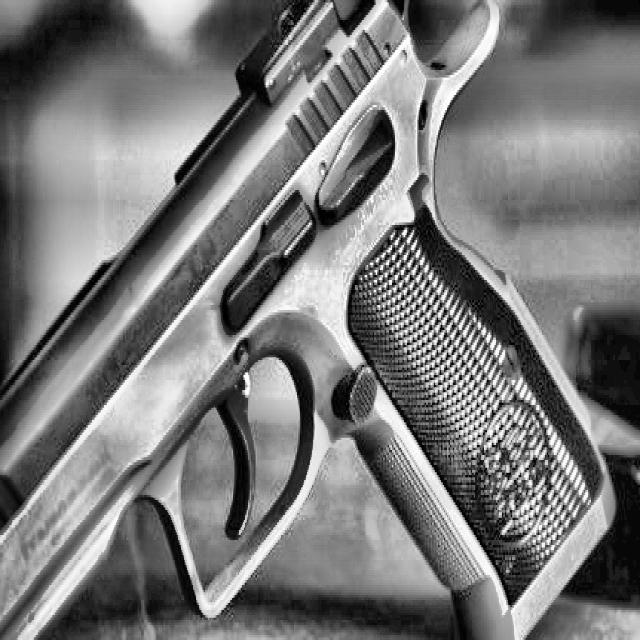Tanfoglio: (0, 0, 625, 640)
